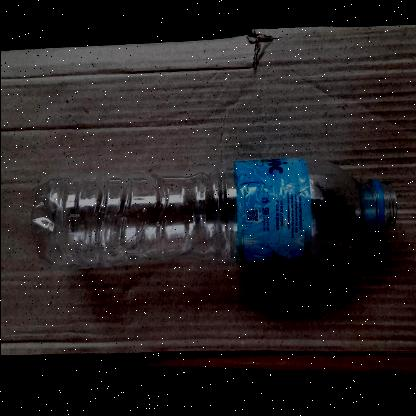Plastic Bottle: (24, 156, 398, 270)
